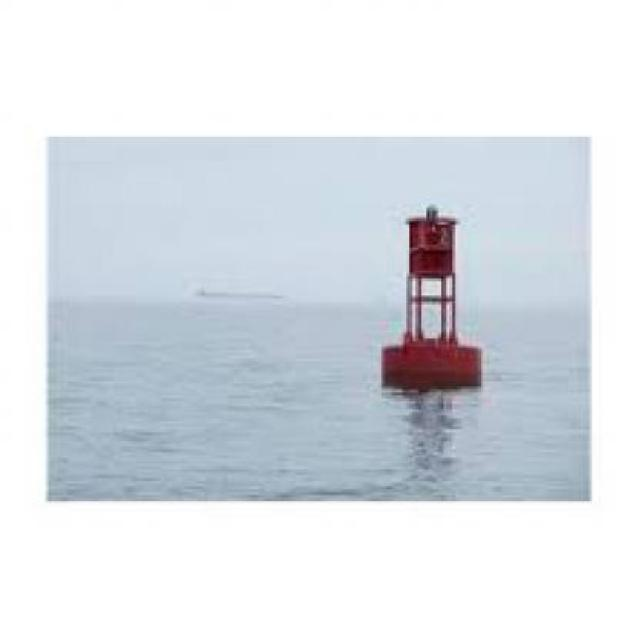buoy: (374, 197, 493, 402)
